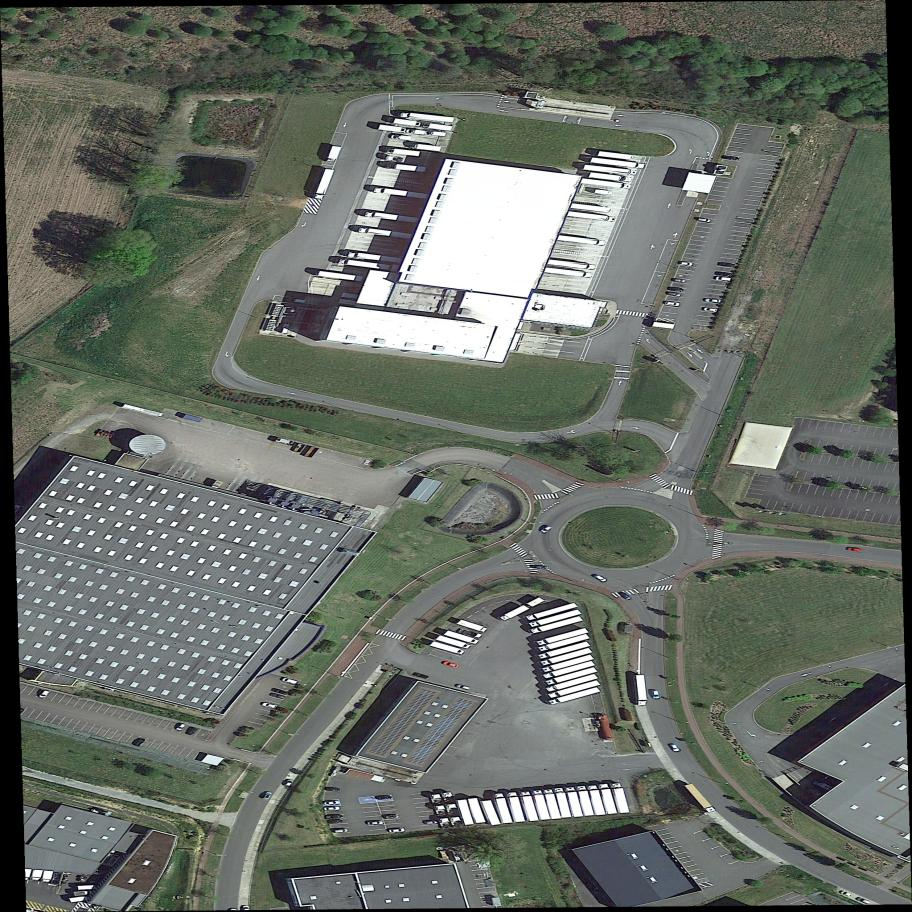large-vehicle: (497, 594, 546, 623), (682, 780, 717, 816), (538, 646, 595, 668), (535, 640, 592, 661), (546, 679, 602, 700), (534, 626, 589, 647), (538, 654, 595, 674), (548, 685, 602, 706), (528, 608, 582, 629), (543, 666, 598, 686), (536, 633, 591, 653), (542, 660, 596, 680), (530, 615, 583, 635), (525, 602, 578, 622), (546, 673, 598, 693), (312, 165, 335, 202), (372, 186, 431, 200), (493, 790, 514, 826), (345, 251, 403, 264), (356, 227, 412, 240), (590, 156, 646, 169), (610, 780, 630, 816), (598, 781, 618, 817), (576, 783, 596, 819), (364, 211, 419, 224), (587, 782, 607, 817), (506, 790, 526, 824), (520, 789, 539, 824), (435, 634, 474, 651), (338, 259, 393, 271), (543, 787, 562, 821), (565, 785, 584, 819), (559, 234, 607, 247), (579, 178, 631, 190), (533, 788, 551, 822), (554, 785, 572, 819), (314, 270, 364, 282), (583, 164, 637, 175), (429, 640, 466, 656), (545, 267, 594, 279), (548, 259, 597, 271), (568, 211, 617, 223), (399, 112, 455, 122), (444, 630, 480, 645), (457, 618, 489, 633), (588, 172, 633, 182), (634, 674, 648, 706), (327, 144, 342, 165), (386, 148, 421, 157), (377, 124, 408, 134), (423, 122, 453, 132), (393, 118, 422, 127), (440, 789, 455, 806), (434, 803, 449, 820), (411, 143, 441, 151), (449, 814, 464, 830), (430, 791, 444, 808), (445, 802, 459, 819), (31, 868, 44, 882), (439, 816, 452, 830), (41, 869, 53, 884), (716, 261, 738, 269), (713, 270, 734, 278), (390, 134, 413, 141), (713, 275, 733, 283), (426, 130, 448, 137), (408, 128, 427, 136), (702, 297, 723, 304), (702, 307, 718, 313)
small-vehicle: (131, 733, 148, 750), (618, 589, 635, 605), (36, 687, 51, 702), (592, 572, 609, 585), (440, 659, 460, 670), (173, 720, 188, 734), (538, 523, 554, 536), (411, 671, 431, 681), (668, 741, 682, 755), (453, 682, 472, 691), (185, 725, 198, 738), (721, 154, 741, 162), (283, 777, 295, 790), (282, 677, 299, 686), (662, 300, 681, 308), (856, 896, 872, 905), (262, 789, 273, 802), (650, 688, 661, 701), (839, 889, 854, 898), (388, 827, 407, 834), (273, 688, 289, 696), (269, 692, 285, 700), (262, 701, 278, 709), (325, 786, 342, 793), (423, 819, 439, 826), (668, 286, 684, 293), (323, 800, 341, 806), (375, 795, 393, 801), (697, 217, 712, 224), (327, 814, 344, 820), (367, 820, 384, 826), (384, 814, 400, 820), (325, 806, 341, 812), (334, 828, 349, 834), (678, 261, 693, 267), (672, 278, 687, 284), (667, 291, 682, 297), (329, 819, 343, 825), (845, 547, 861, 552)
